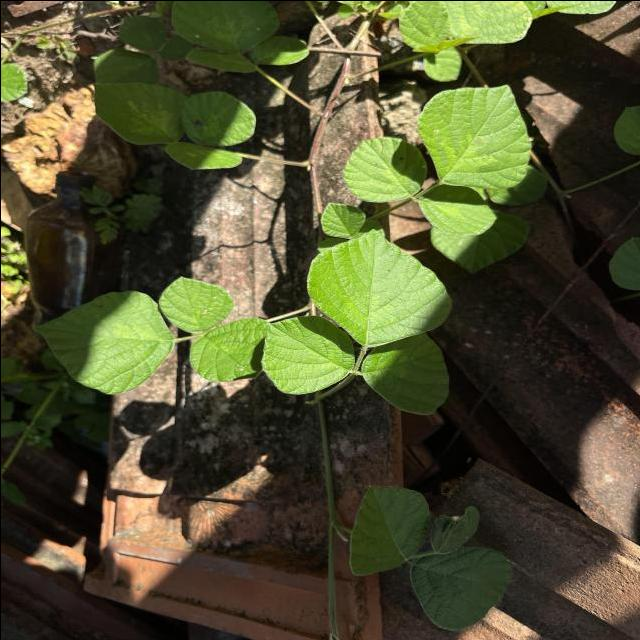Pseudarthria viscida: (258, 226, 456, 417), (340, 82, 530, 236), (30, 272, 265, 396)
